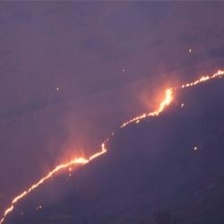fire: (4, 135, 111, 217), (91, 68, 224, 126)
